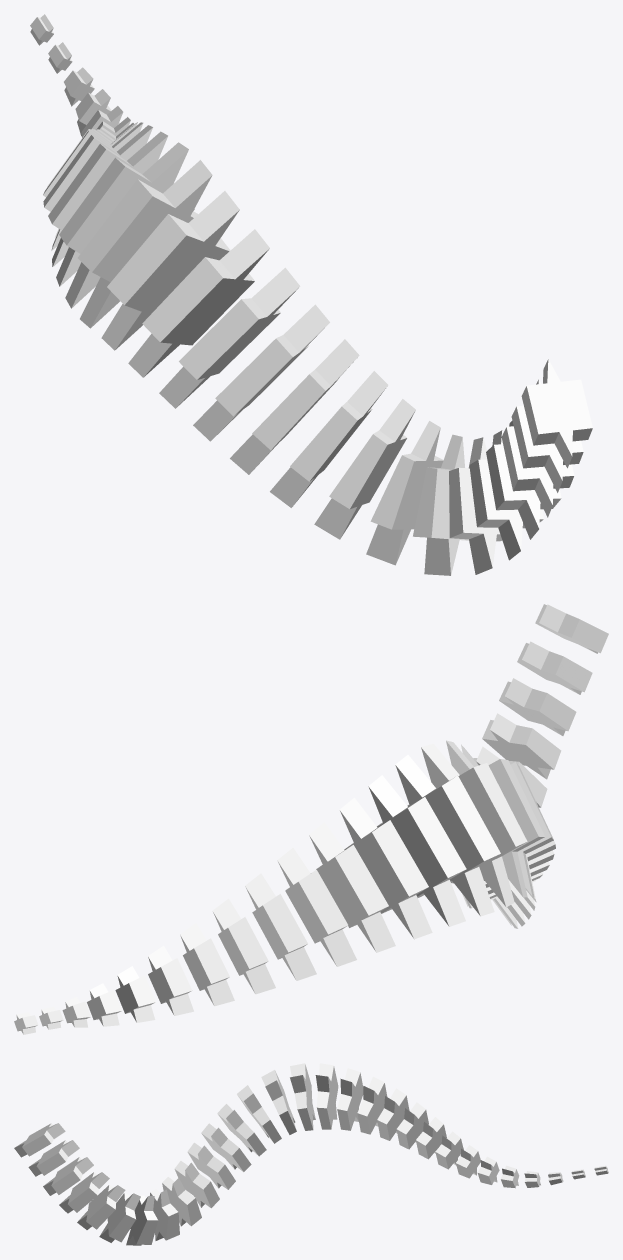
Rendered from BigSpine.fbx.
3 renders of one model, top to bottom at view 1: azimuth 30°, elevation 25°; view 2: azimuth 150°, elevation 25°; view 3: azimuth 270°, elevation 25°, orthographic. The views are drawn at different scales.
Visible parts, largest first — view 1: Spine.001; view 2: Spine.001; view 3: Spine.001.
Boxes of the visible parts, x1,y1,x2,y2 form: Spine.001: (30,14,592,575); Spine.001: (14,604,608,1034); Spine.001: (14,1063,608,1245).
Size of the model in its own units: 699 by 793 by 2739.
